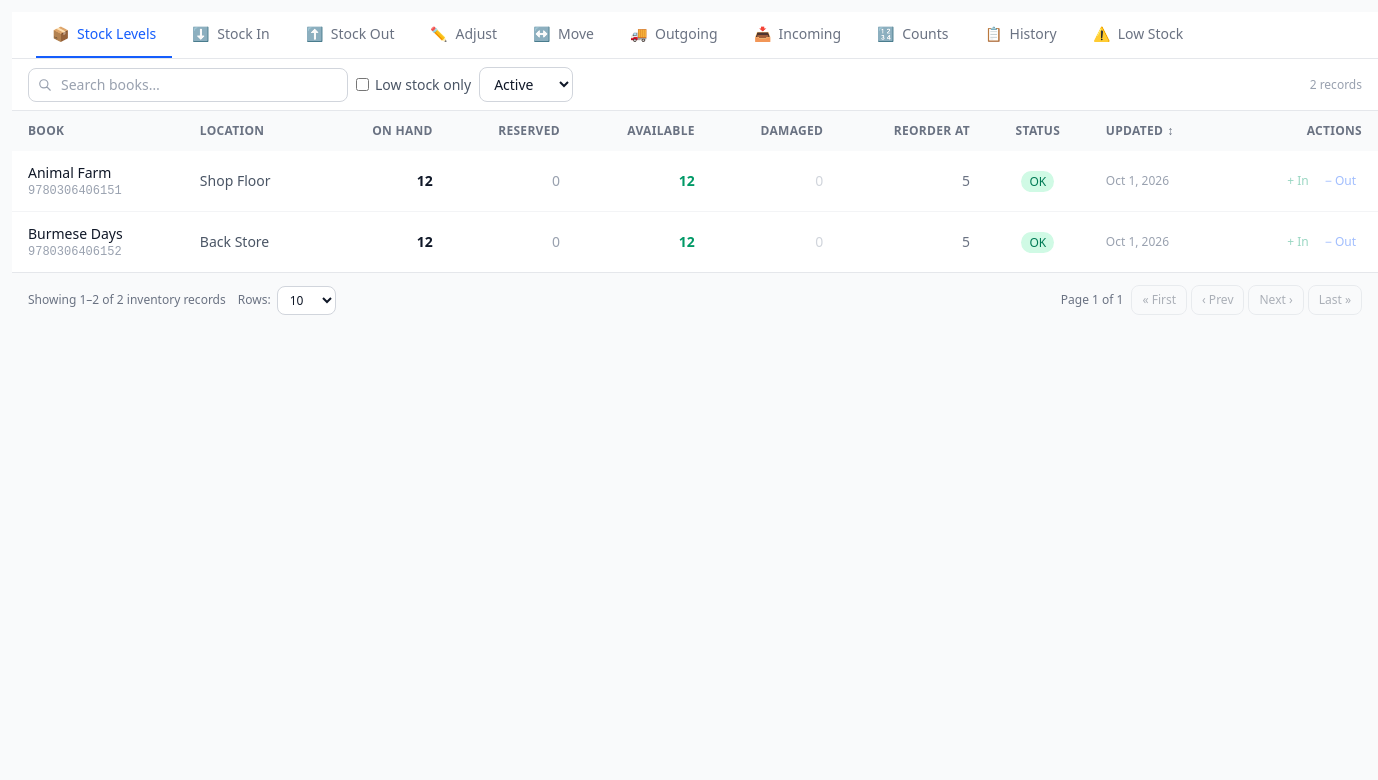
Test: Inventory: Stock Out › still blocks it when the shop does not
Expected: the text "Animal Farm" is shown, [28, 163, 111, 183]
Click the button "⬆️ Stock Out" at x=350, y=35, box [290, 12, 410, 58]
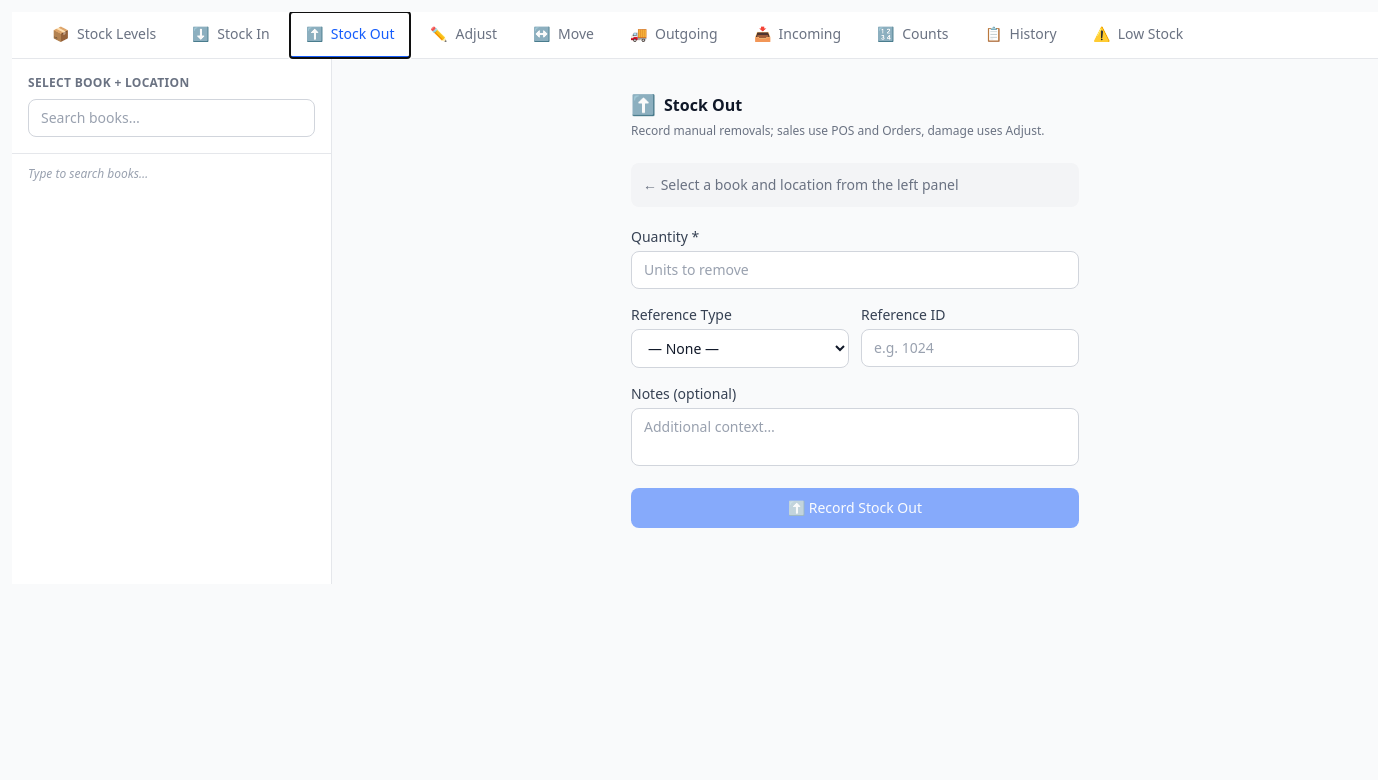
Type "Animal" into the field with placeholder "Search books…" at x=172, y=118, box [28, 99, 315, 137]
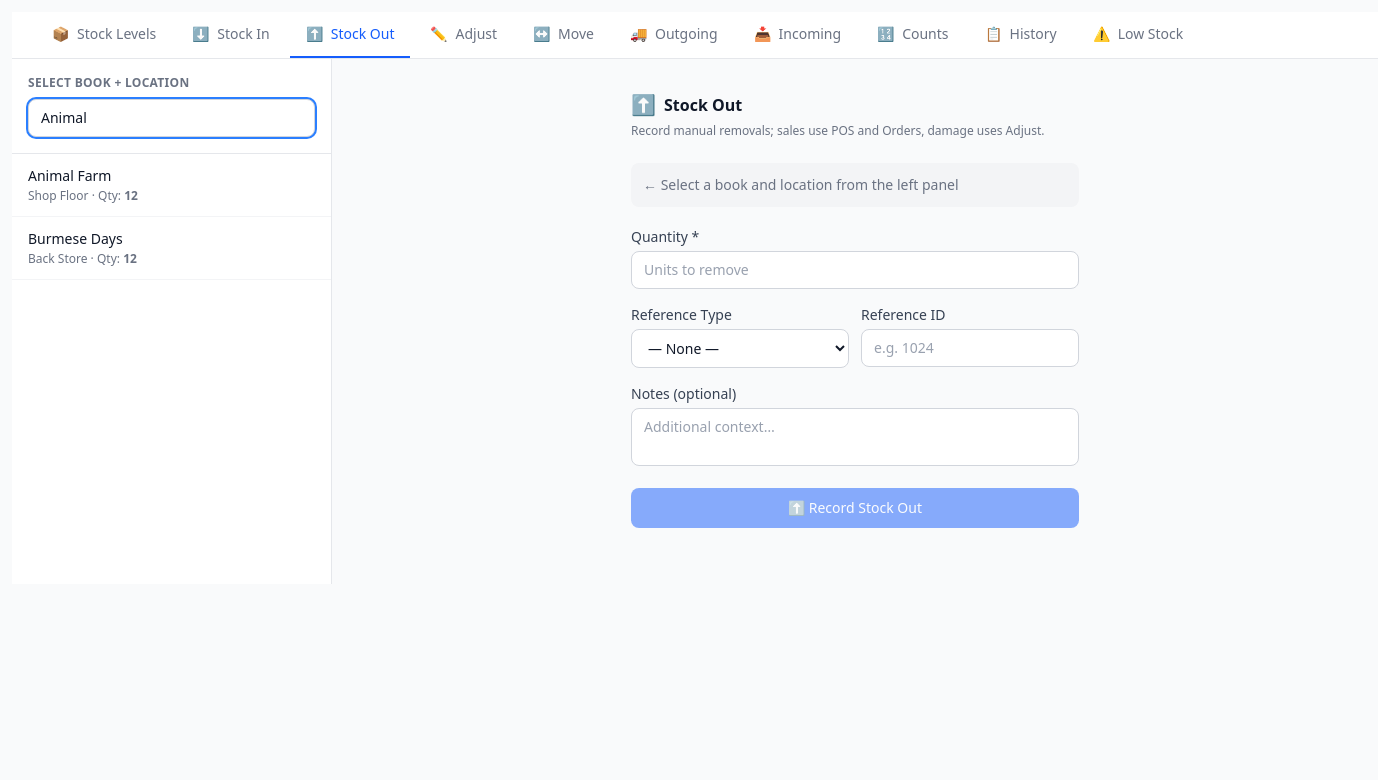
Click the button "Animal Farm Shop Floor · Qty: 12" at x=70, y=176, box [12, 154, 331, 217]
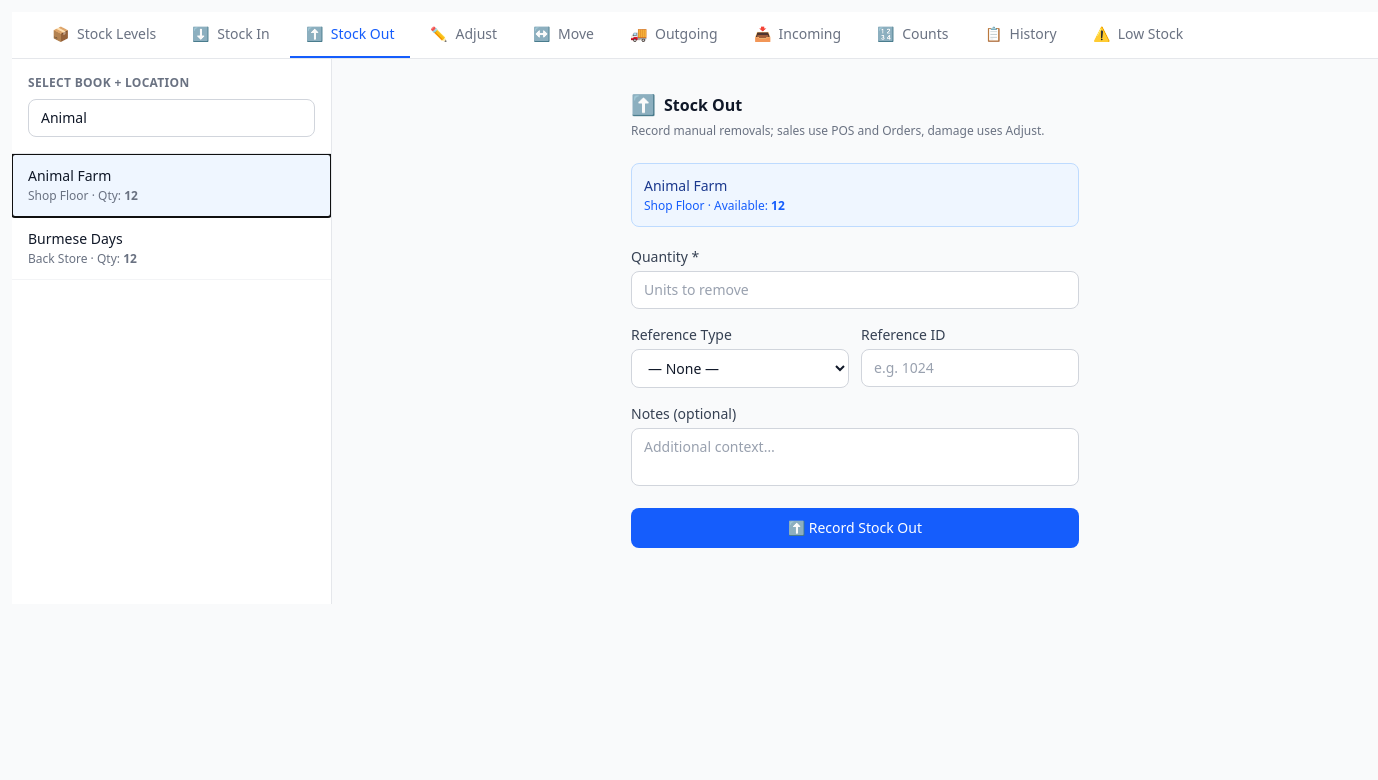
Type "15" into the number field with placeholder "Units to remove" at x=855, y=290, box [631, 271, 1079, 309]
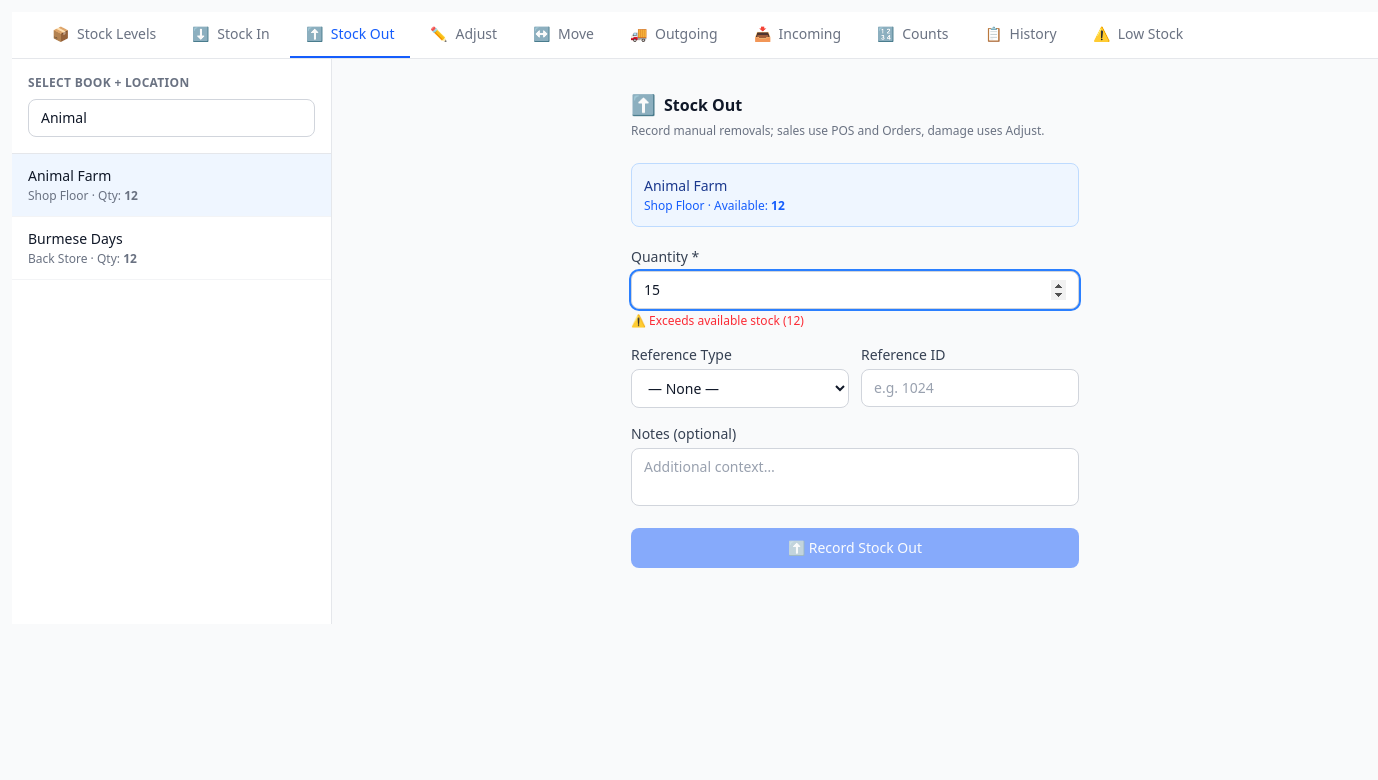
Expected: the text "⚠ Exceeds available stock (12)" is shown, [631, 312, 804, 329]
Expected: the button "⬆️ Record Stock Out" is disabled, [631, 528, 1079, 568]
